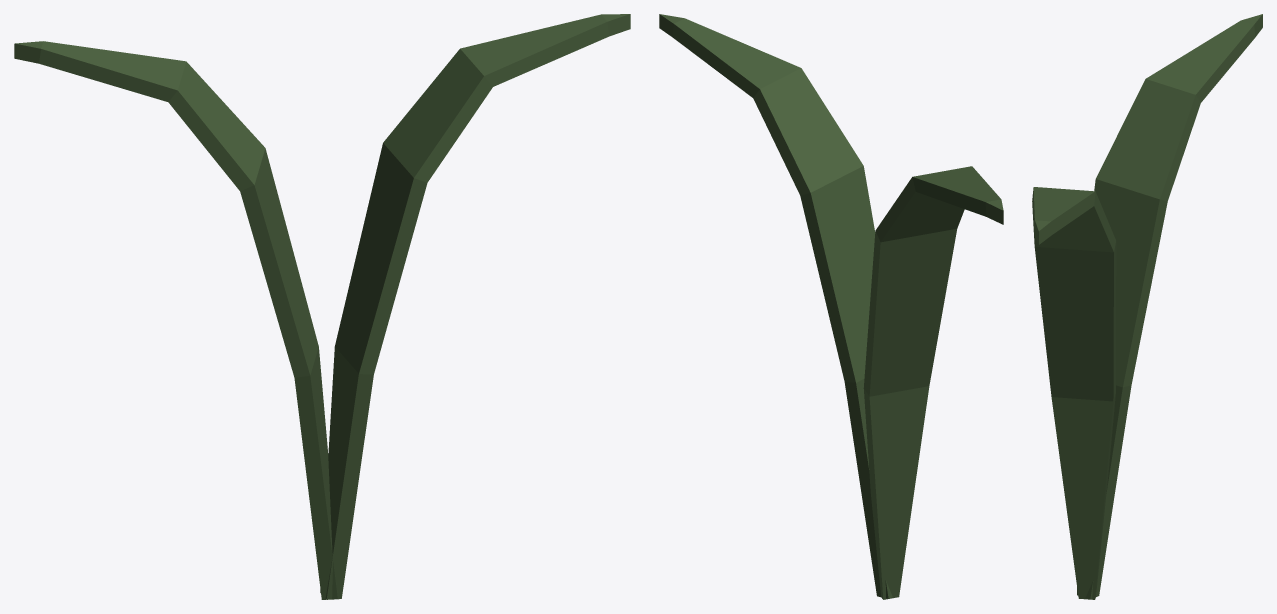
File: Orange_1.gltf
3 views of the same model, side by side, from view 1: azimuth 30°, elevation 25°; view 2: azimuth 150°, elevation 25°; view 3: azimuth 270°, elevation 25° (orthographic). The views are drawn at different scales.
Parts seen in each view (by area): view 1: Orange_1; view 2: Orange_1; view 3: Orange_1.
Part boxes in pixels (<box>): Orange_1: <box>14,14,630,599</box>; Orange_1: <box>659,14,1003,599</box>; Orange_1: <box>1032,14,1262,599</box>.
Size of the model in its own units: 0.2378 by 0.2474 by 0.1066.
